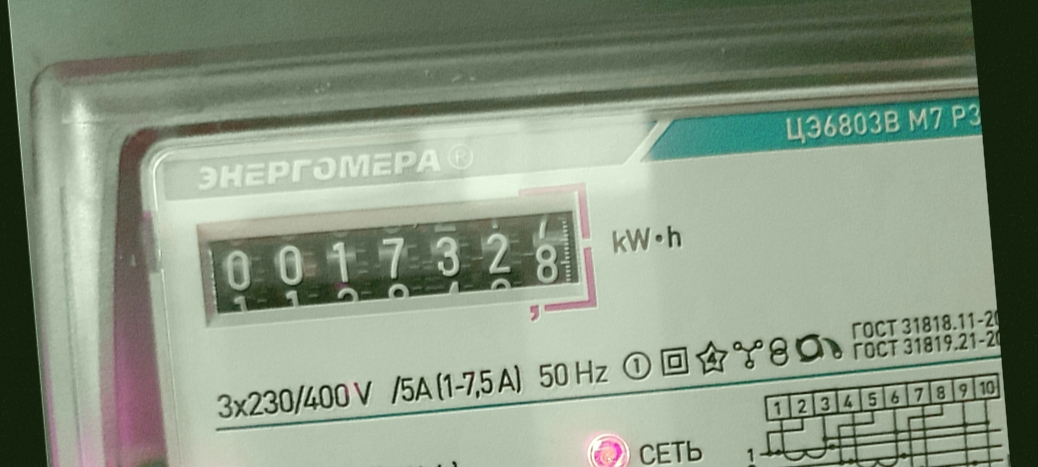0: (220, 247, 256, 294), (274, 241, 306, 288)
1: (328, 238, 353, 286)
2: (481, 230, 513, 277)
3: (432, 233, 462, 279)
7: (378, 234, 409, 283)
8: (531, 242, 560, 286)
screen: (186, 184, 606, 347)
